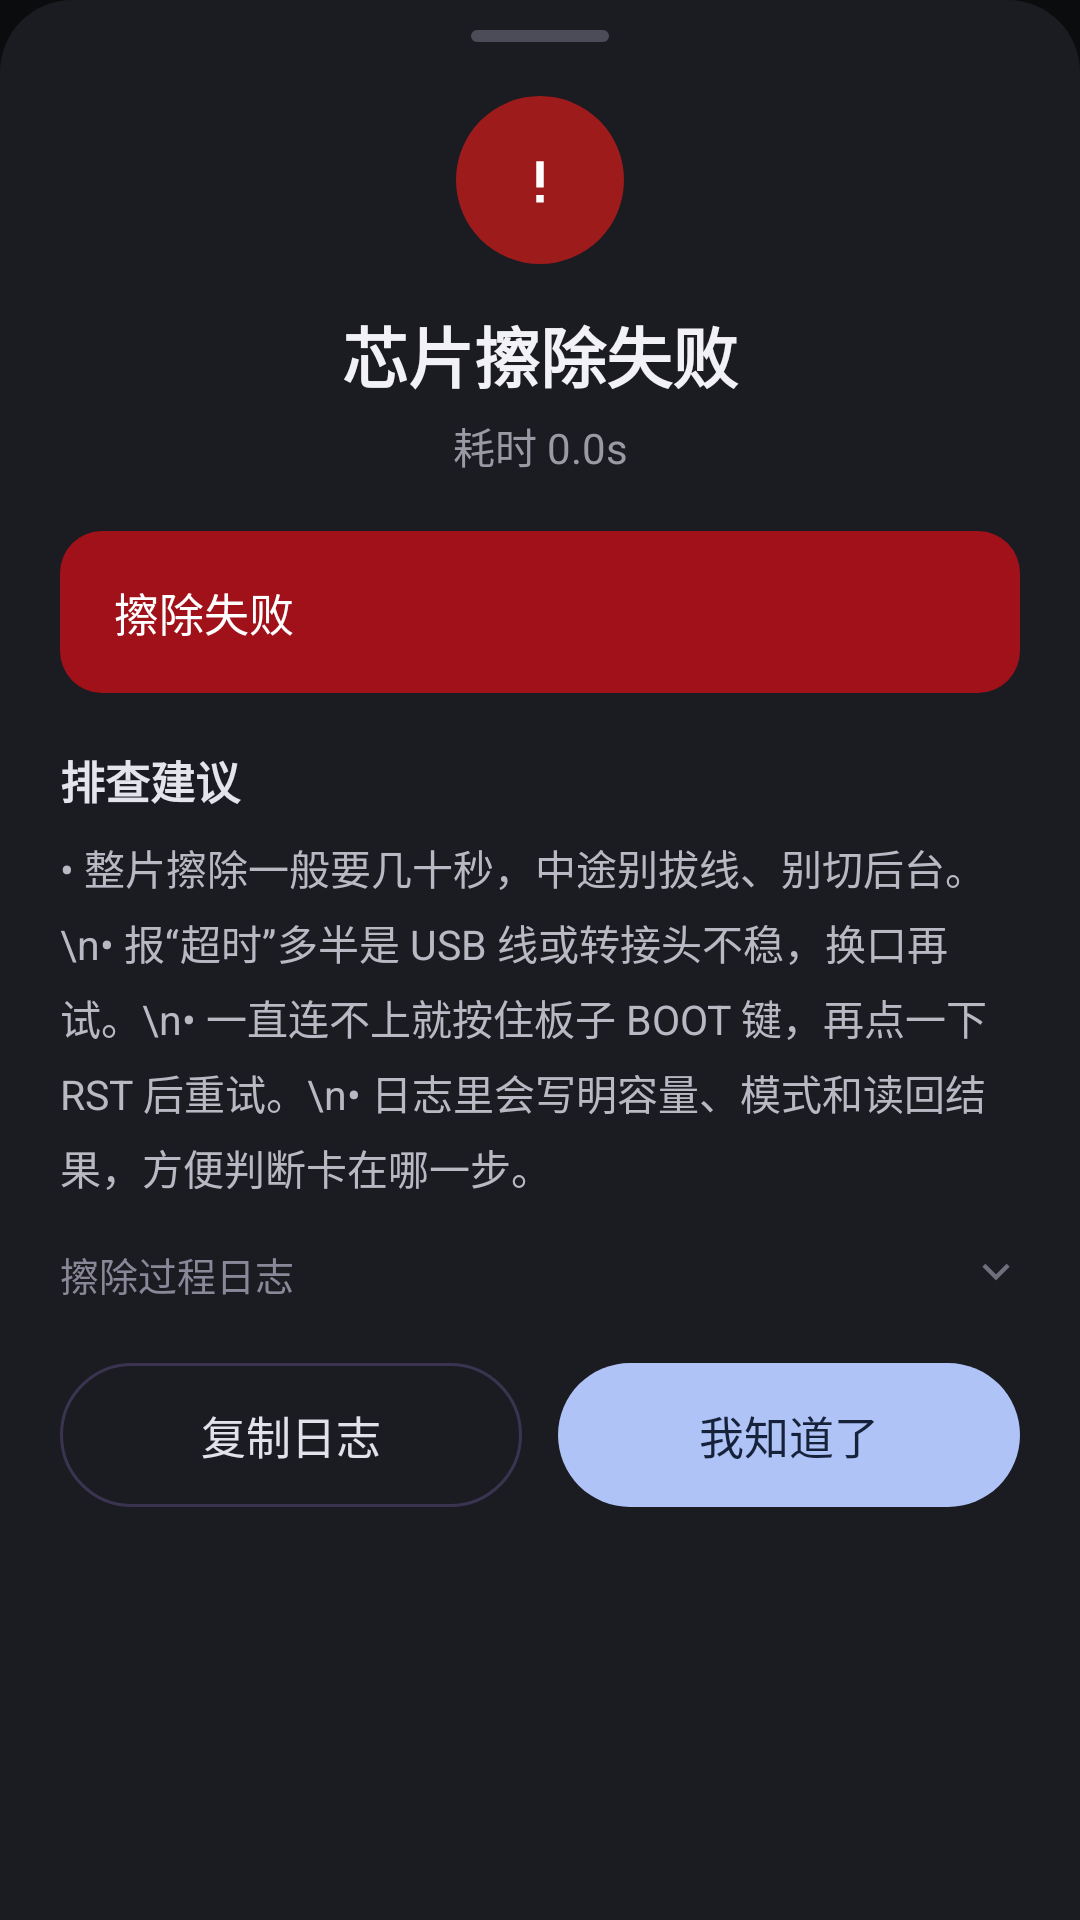

Where to tap for icons on this 1080×1920 app screen, as [x,y]:
展开: [996,1272]
